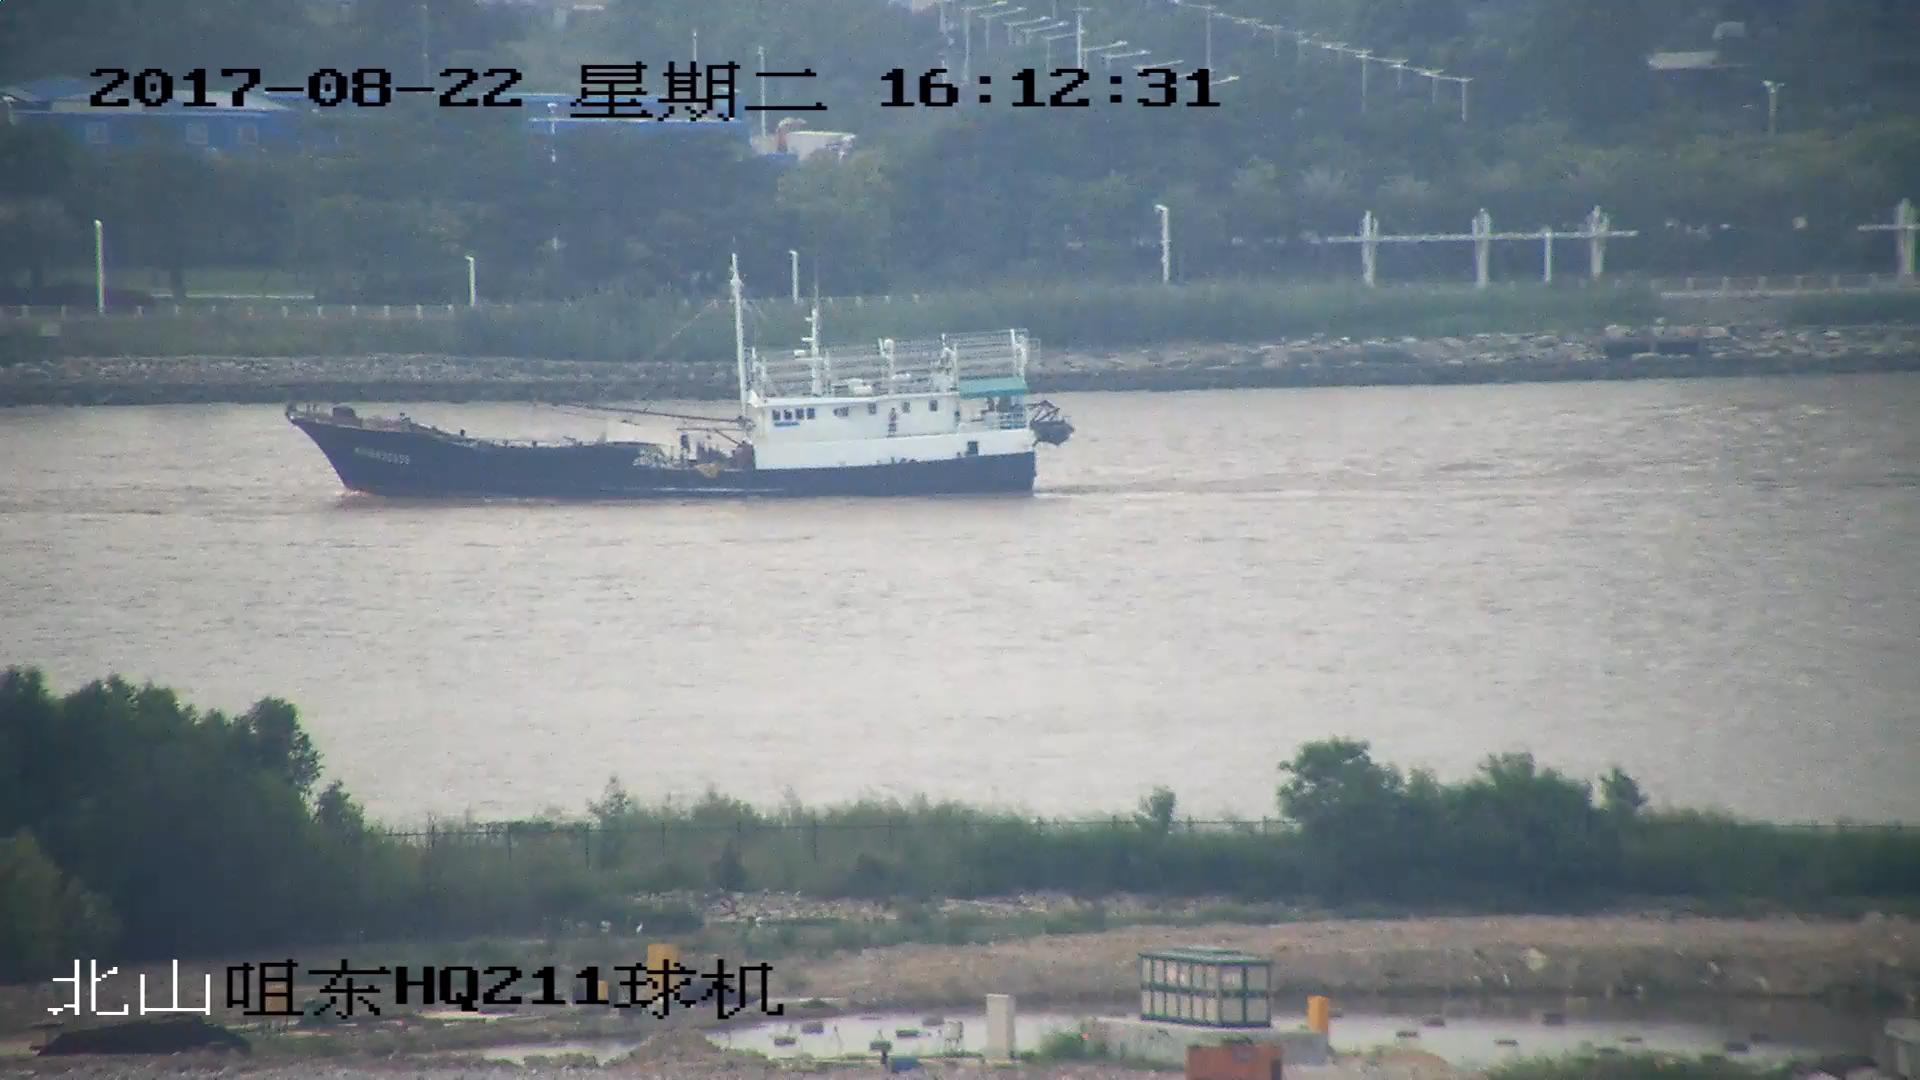fishing boat: (280, 262, 1071, 505)
